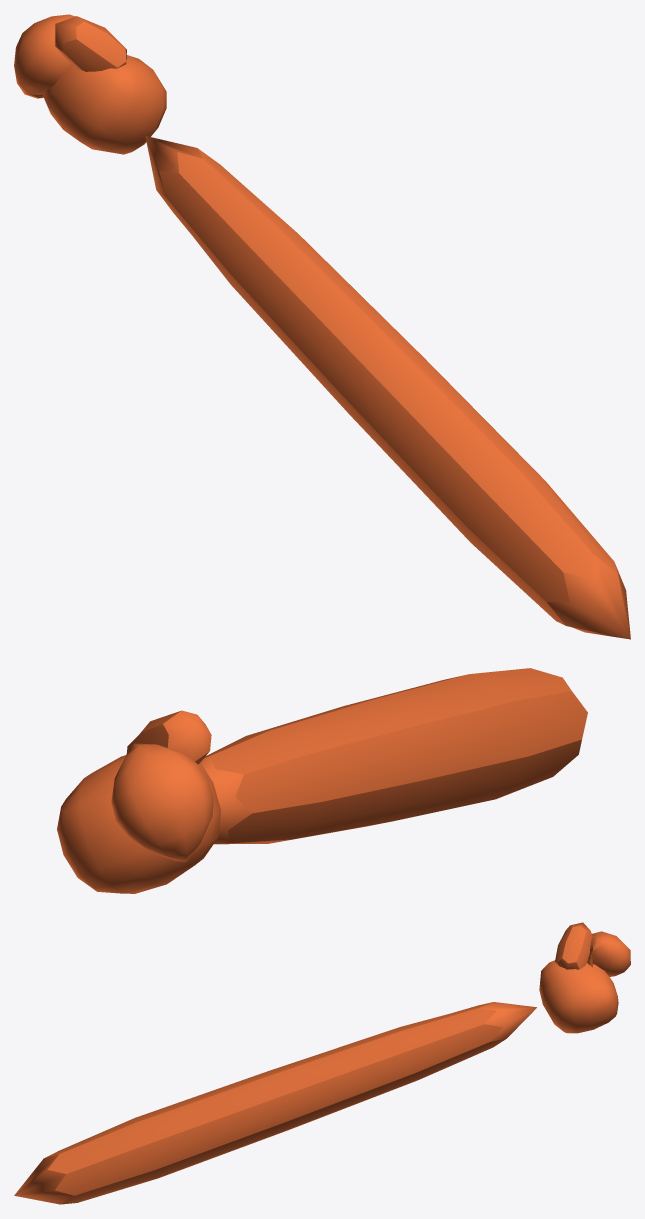
Rendered from arm_lanky.glb.
3 views of the same model, one above another, from view 1: azimuth 30°, elevation 25°; view 2: azimuth 150°, elevation 25°; view 3: azimuth 270°, elevation 25° (orthographic). The views are drawn at different scales.
Parts seen in each view (by area): view 1: lanky.002; view 2: lanky.002; view 3: lanky.002.
Boxes of the visible parts, x1=… form: lanky.002: x1=14, y1=14, x2=630, y2=639; lanky.002: x1=57, y1=668, x2=587, y2=893; lanky.002: x1=14, y1=922, x2=630, y2=1204.
Size of the model in its own units: 0.1599 by 0.2797 by 0.6563.
